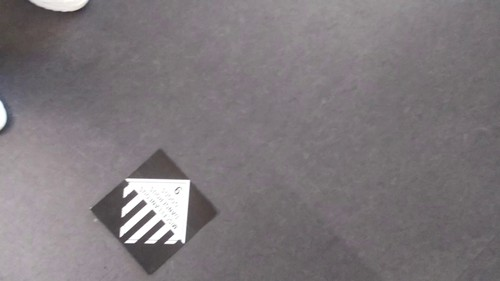misgoods: (113, 175, 194, 248)
